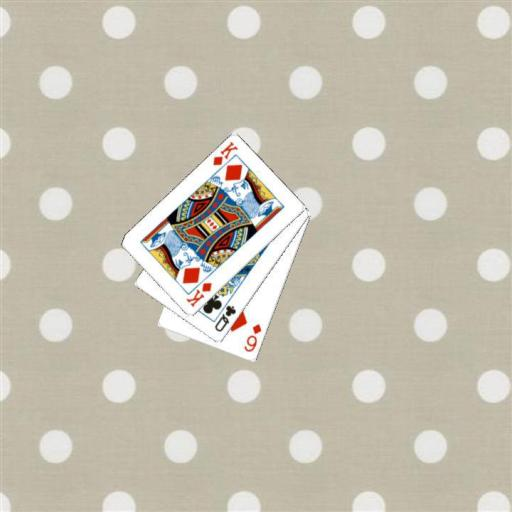6D: (241, 321, 263, 353)
KD: (183, 280, 213, 309), (210, 139, 240, 167)
QC: (211, 302, 238, 334)
